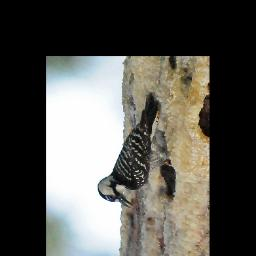Woodpecker: (96, 92, 171, 208)
